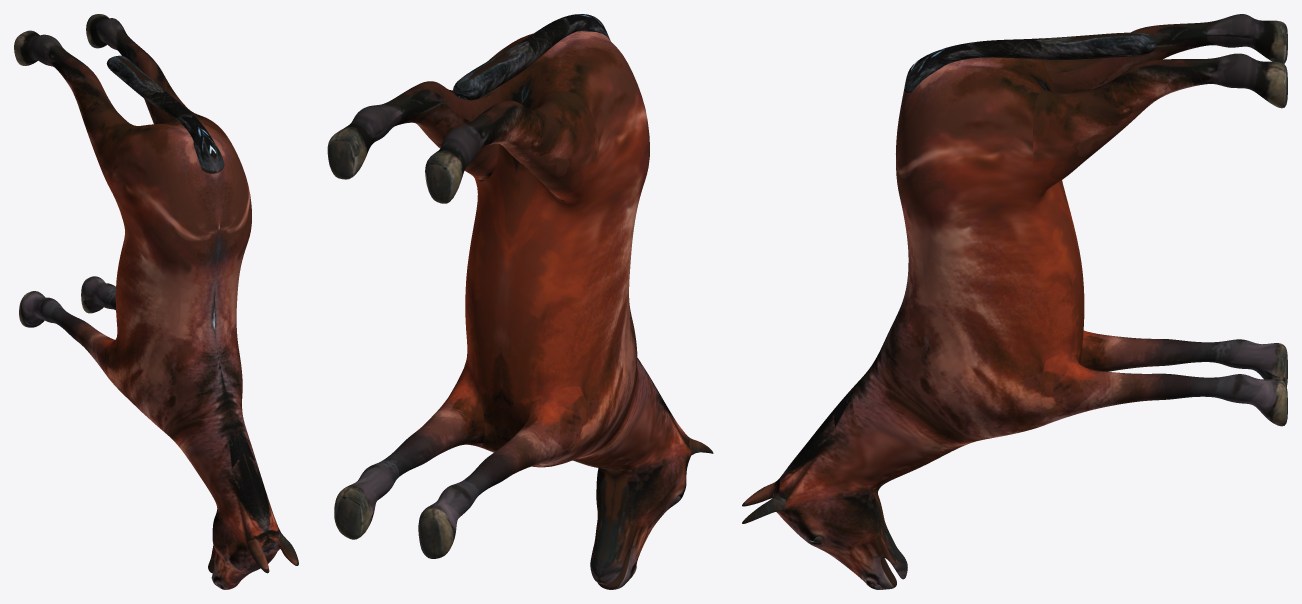
The model's file is horse.obj.
The picture shows the model from 3 angles, left to right: view 1: azimuth 30°, elevation 25°; view 2: azimuth 150°, elevation 25°; view 3: azimuth 270°, elevation 25°; orthographic projection. The views are drawn at different scales.
Visible parts, largest first — view 1: 10026_Horse_v01; view 2: 10026_Horse_v01; view 3: 10026_Horse_v01.
Boxes of the visible parts, left/top/right/bottom form: 10026_Horse_v01: left=14, top=14, right=298, bottom=589; 10026_Horse_v01: left=327, top=14, right=713, bottom=589; 10026_Horse_v01: left=742, top=14, right=1287, bottom=589.
Bounding box in the file's own units: 427 × 1791 × 1599.
Materials: 1 (1 with a texture image).
